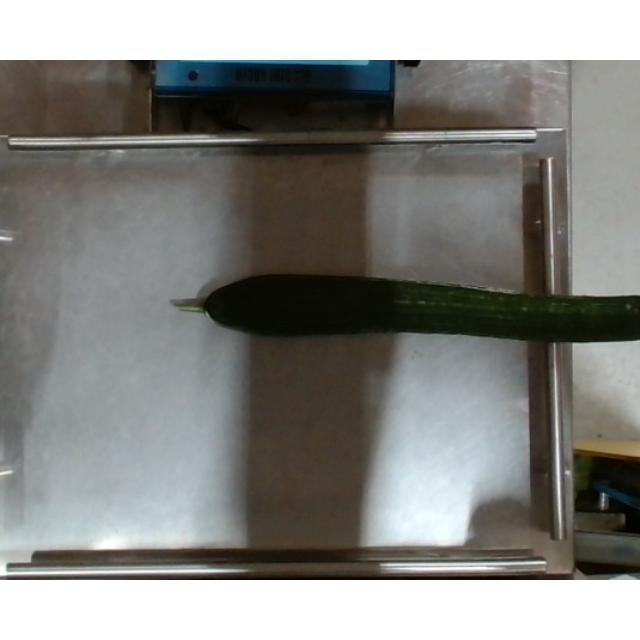cucumber: (170, 266, 640, 344)
